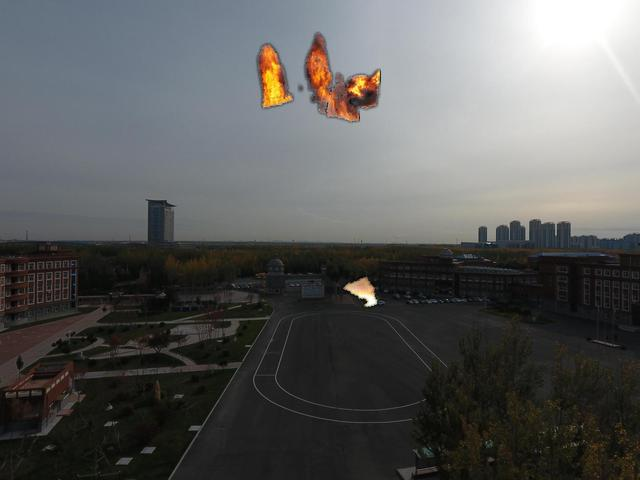fire: (254, 32, 358, 121), (338, 70, 379, 109), (342, 275, 379, 307)
